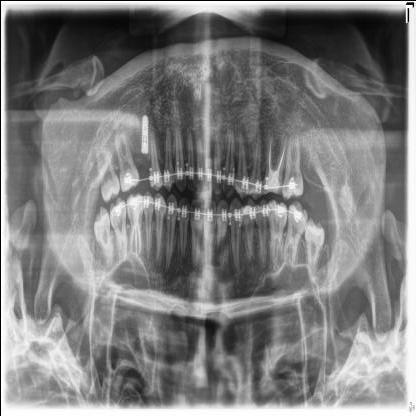ITI: (138, 109, 150, 156)
